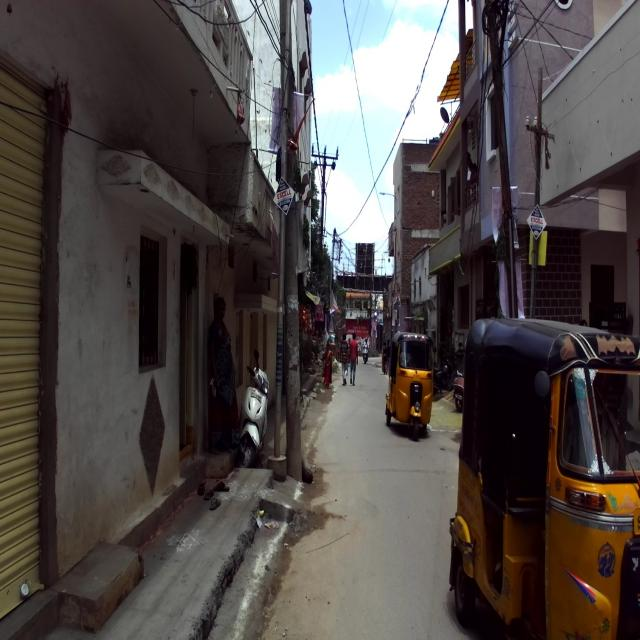autorickshaw: (449, 317, 639, 638), (384, 331, 436, 440)
scooter: (233, 347, 270, 471)
